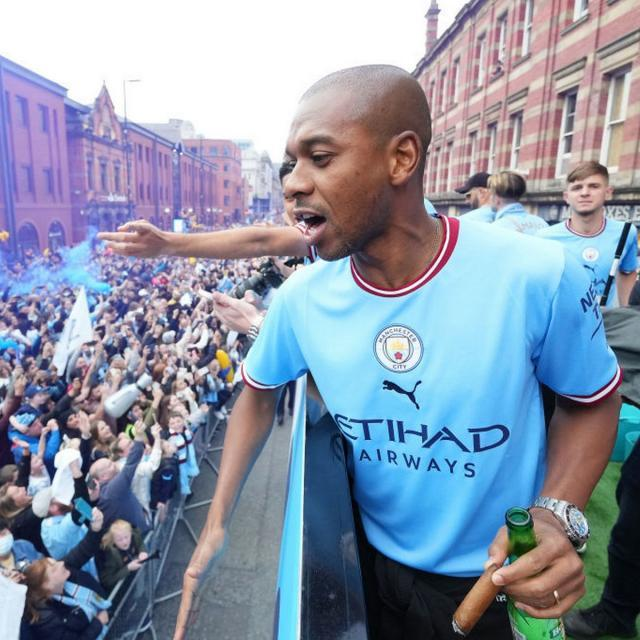Etihad Airways: (333, 412, 509, 480)
Puma: (379, 377, 424, 411)
